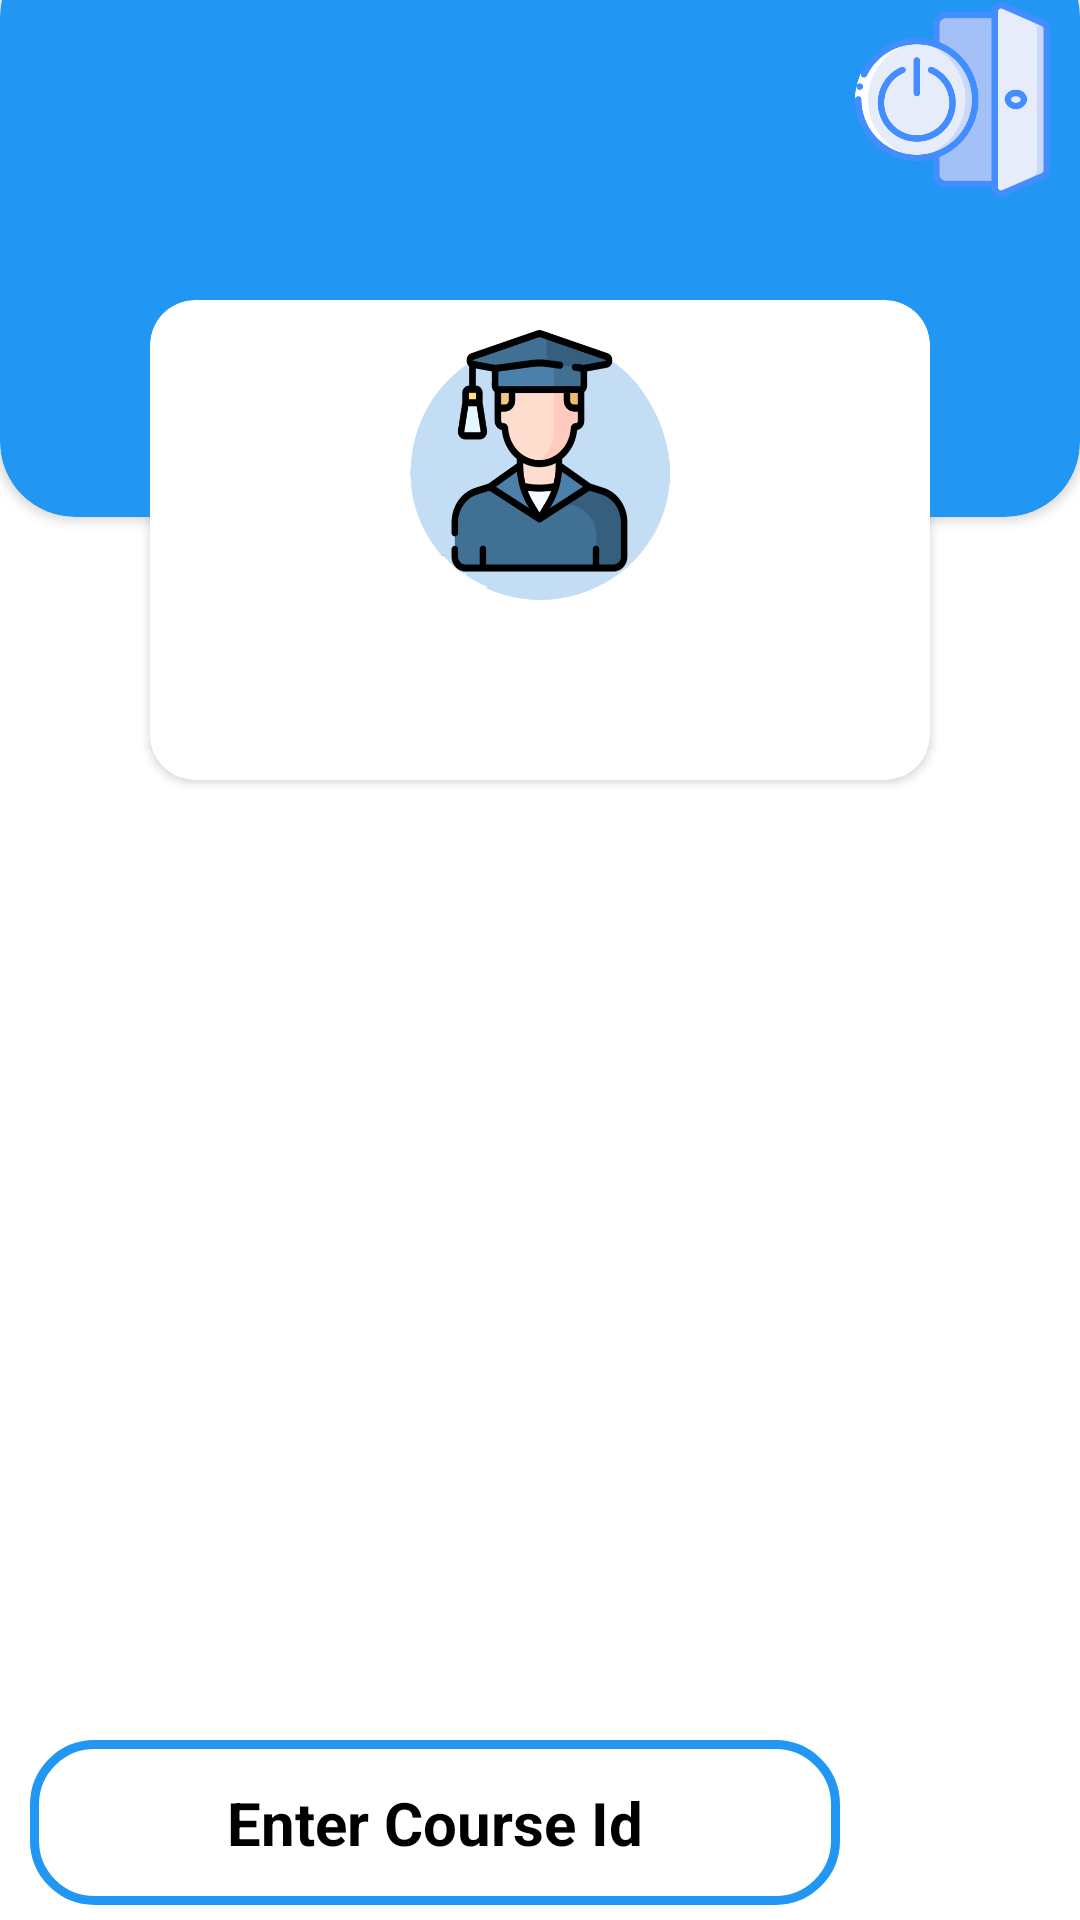

Icon bounding boxes for this 1080x1920 phone screenshot, format region(x1, y1, x2, y2):
graduated: region(410, 330, 670, 600)
